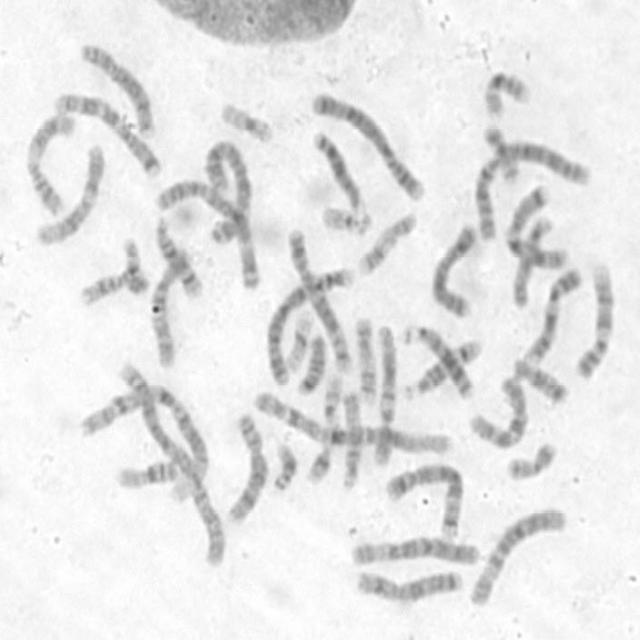A1: (82, 374, 209, 508), (250, 385, 455, 455)
A2: (103, 364, 228, 570), (470, 133, 594, 243)
A3: (150, 172, 261, 292), (200, 136, 254, 244)
B4: (307, 84, 429, 202), (261, 264, 355, 386)
B5: (282, 223, 356, 375), (381, 458, 465, 540)
C10: (146, 240, 196, 370), (464, 368, 532, 451)
C11: (21, 108, 77, 218), (76, 232, 146, 308)
C12: (31, 139, 106, 247), (368, 320, 400, 470)
C6: (464, 500, 569, 610), (346, 530, 483, 569)
C7: (50, 86, 165, 180), (502, 178, 572, 270)
C8: (76, 38, 158, 138), (222, 408, 270, 526)
C9: (516, 262, 584, 368), (572, 256, 618, 381)
D13: (392, 320, 477, 402), (309, 124, 372, 225)
D14: (399, 329, 485, 402), (151, 211, 206, 300)
D15: (506, 208, 556, 309), (338, 385, 363, 492)
E16: (480, 65, 532, 122), (112, 453, 181, 490)
E17: (352, 206, 418, 276), (350, 310, 380, 407)
E18: (510, 352, 571, 406), (293, 329, 329, 396)
F19: (217, 96, 276, 146), (281, 304, 315, 374)
F20: (479, 118, 522, 183), (503, 436, 559, 482)
G21: (268, 436, 300, 492), (302, 439, 335, 487)
G22: (317, 199, 373, 236), (319, 369, 344, 432)
X: (427, 218, 480, 320), (352, 563, 466, 605)
